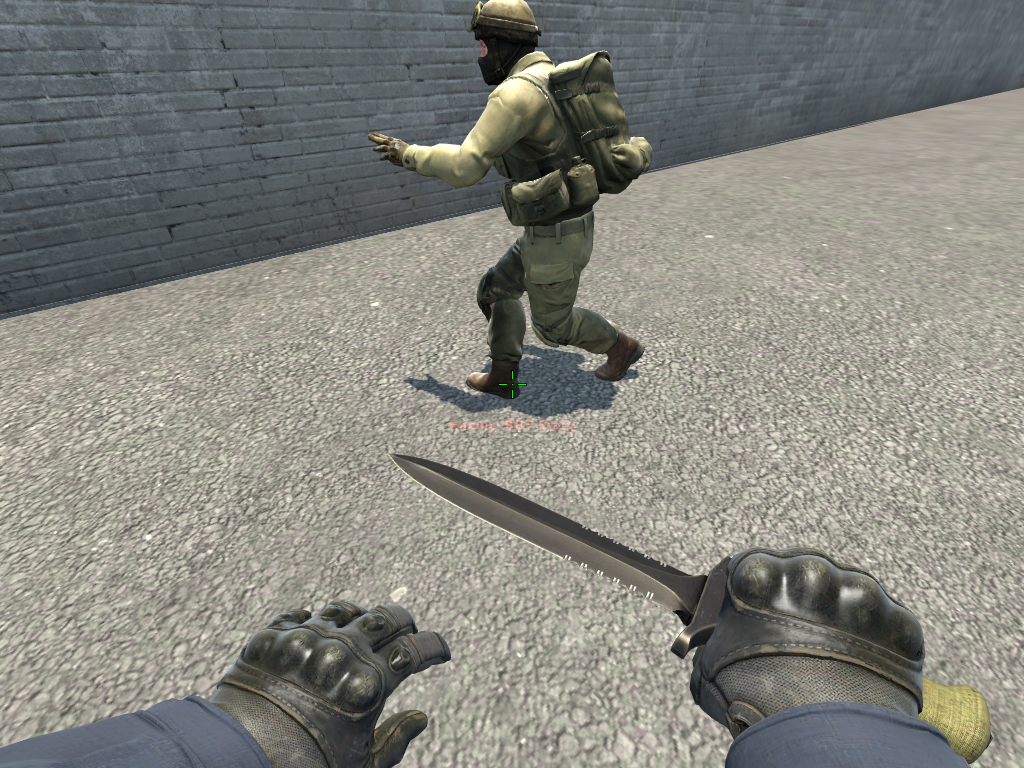ct head: (468, 1, 548, 92)
